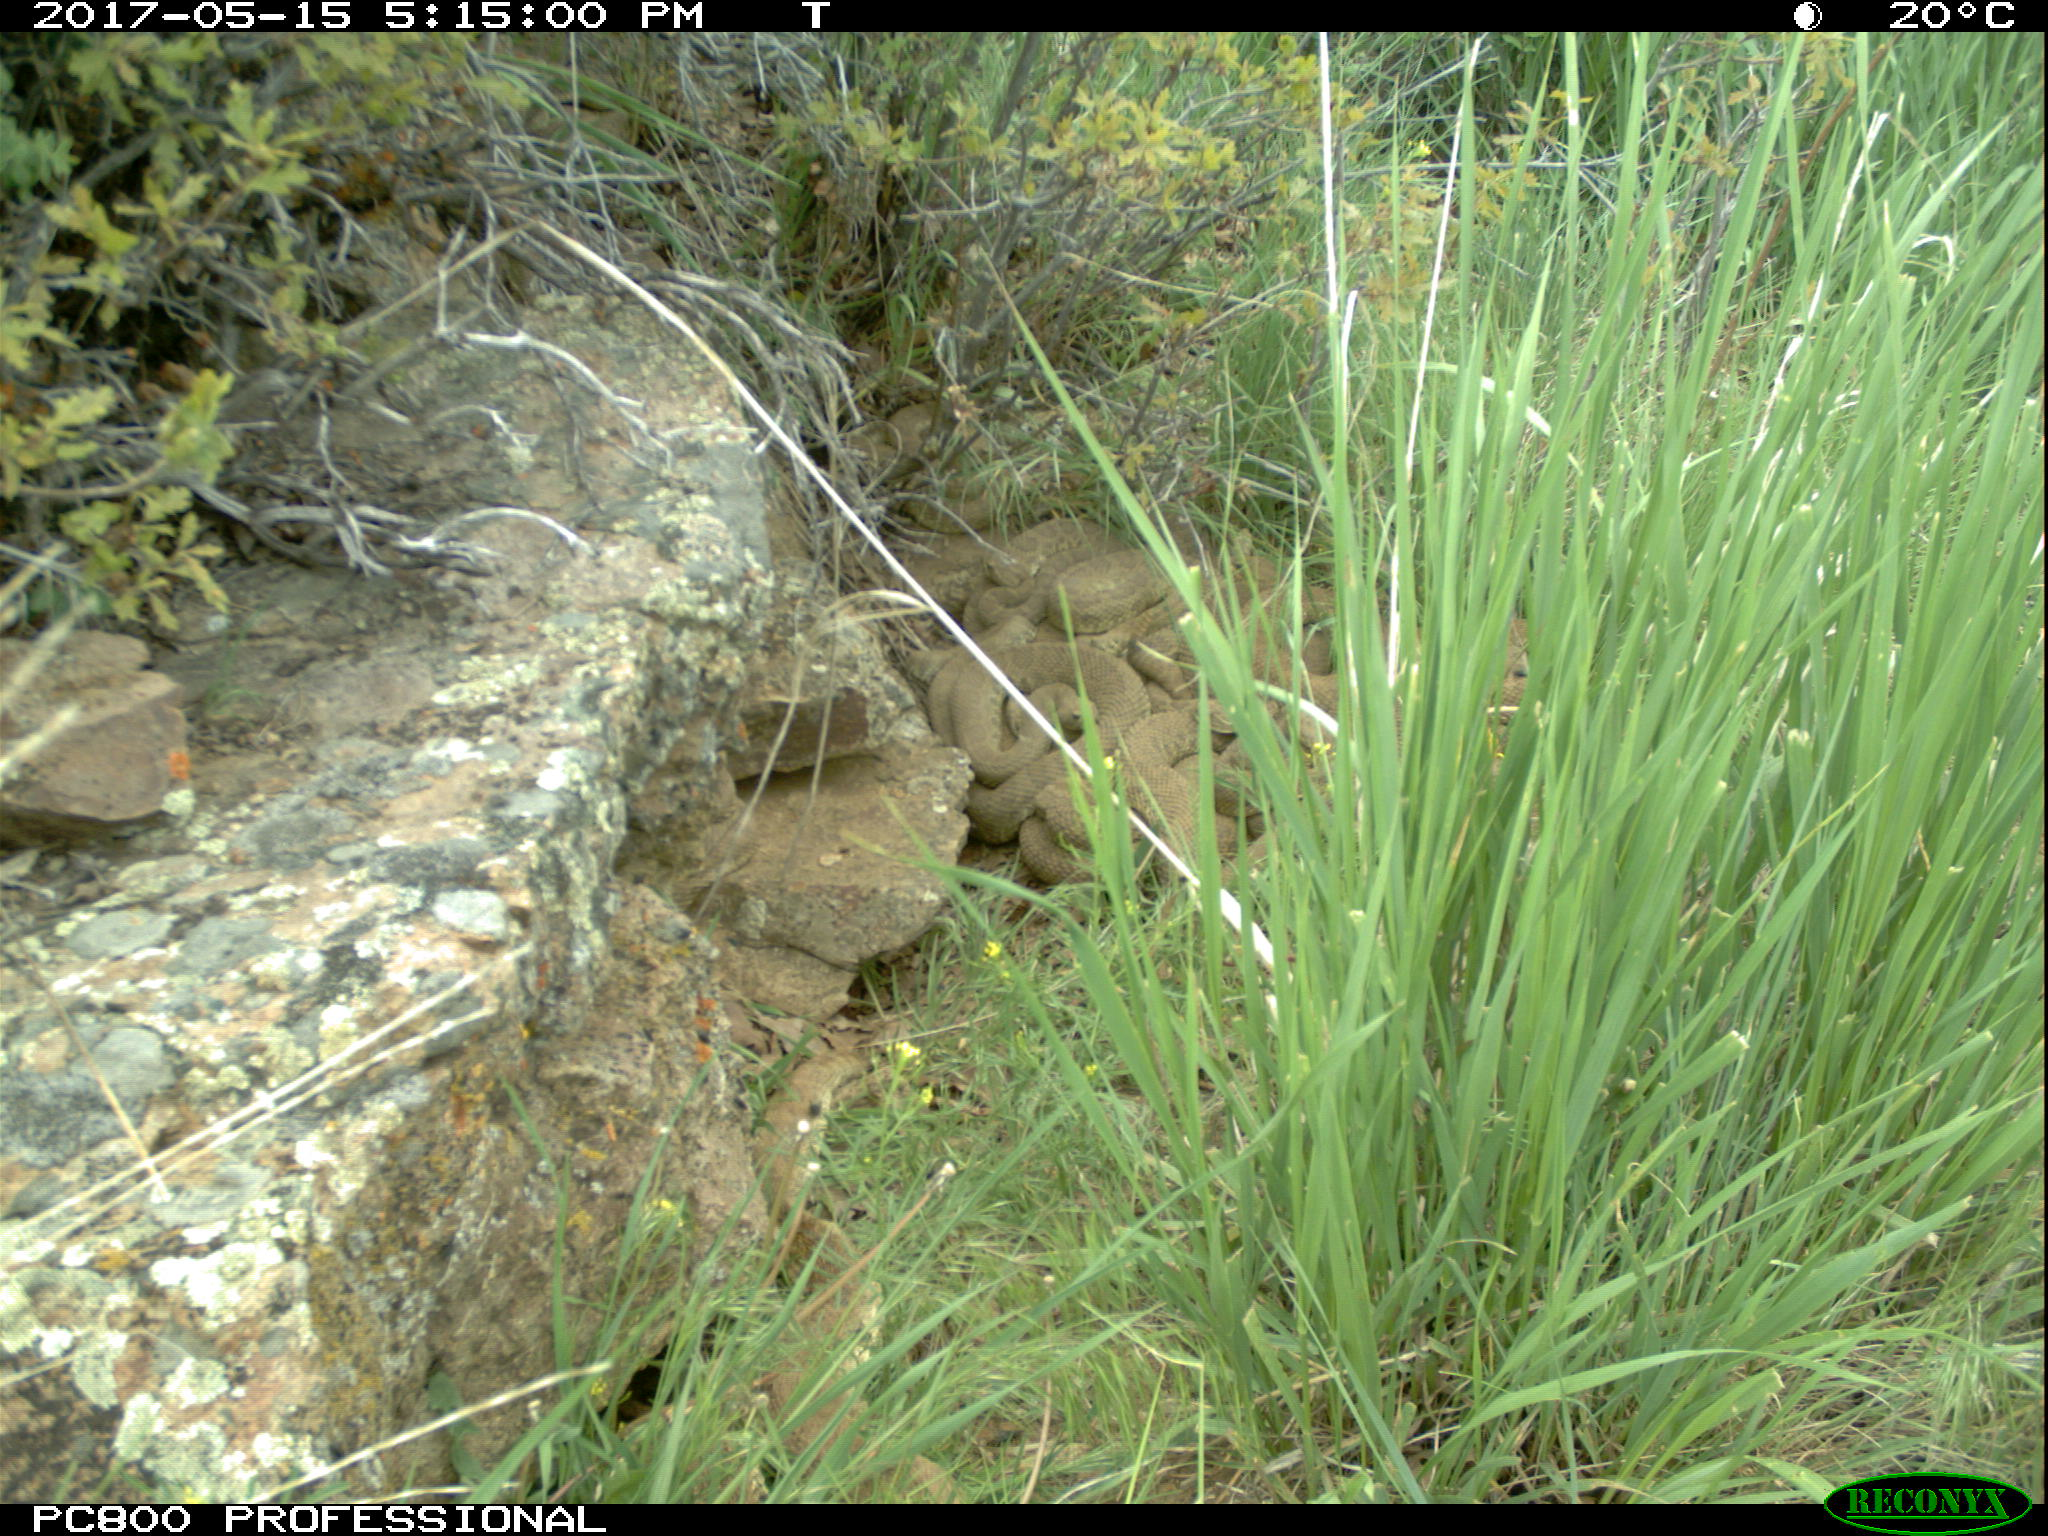snake: (747, 1049, 895, 1489), (930, 641, 1153, 844), (971, 520, 1163, 637), (1221, 582, 1351, 737), (1114, 715, 1227, 878), (851, 384, 940, 497)
